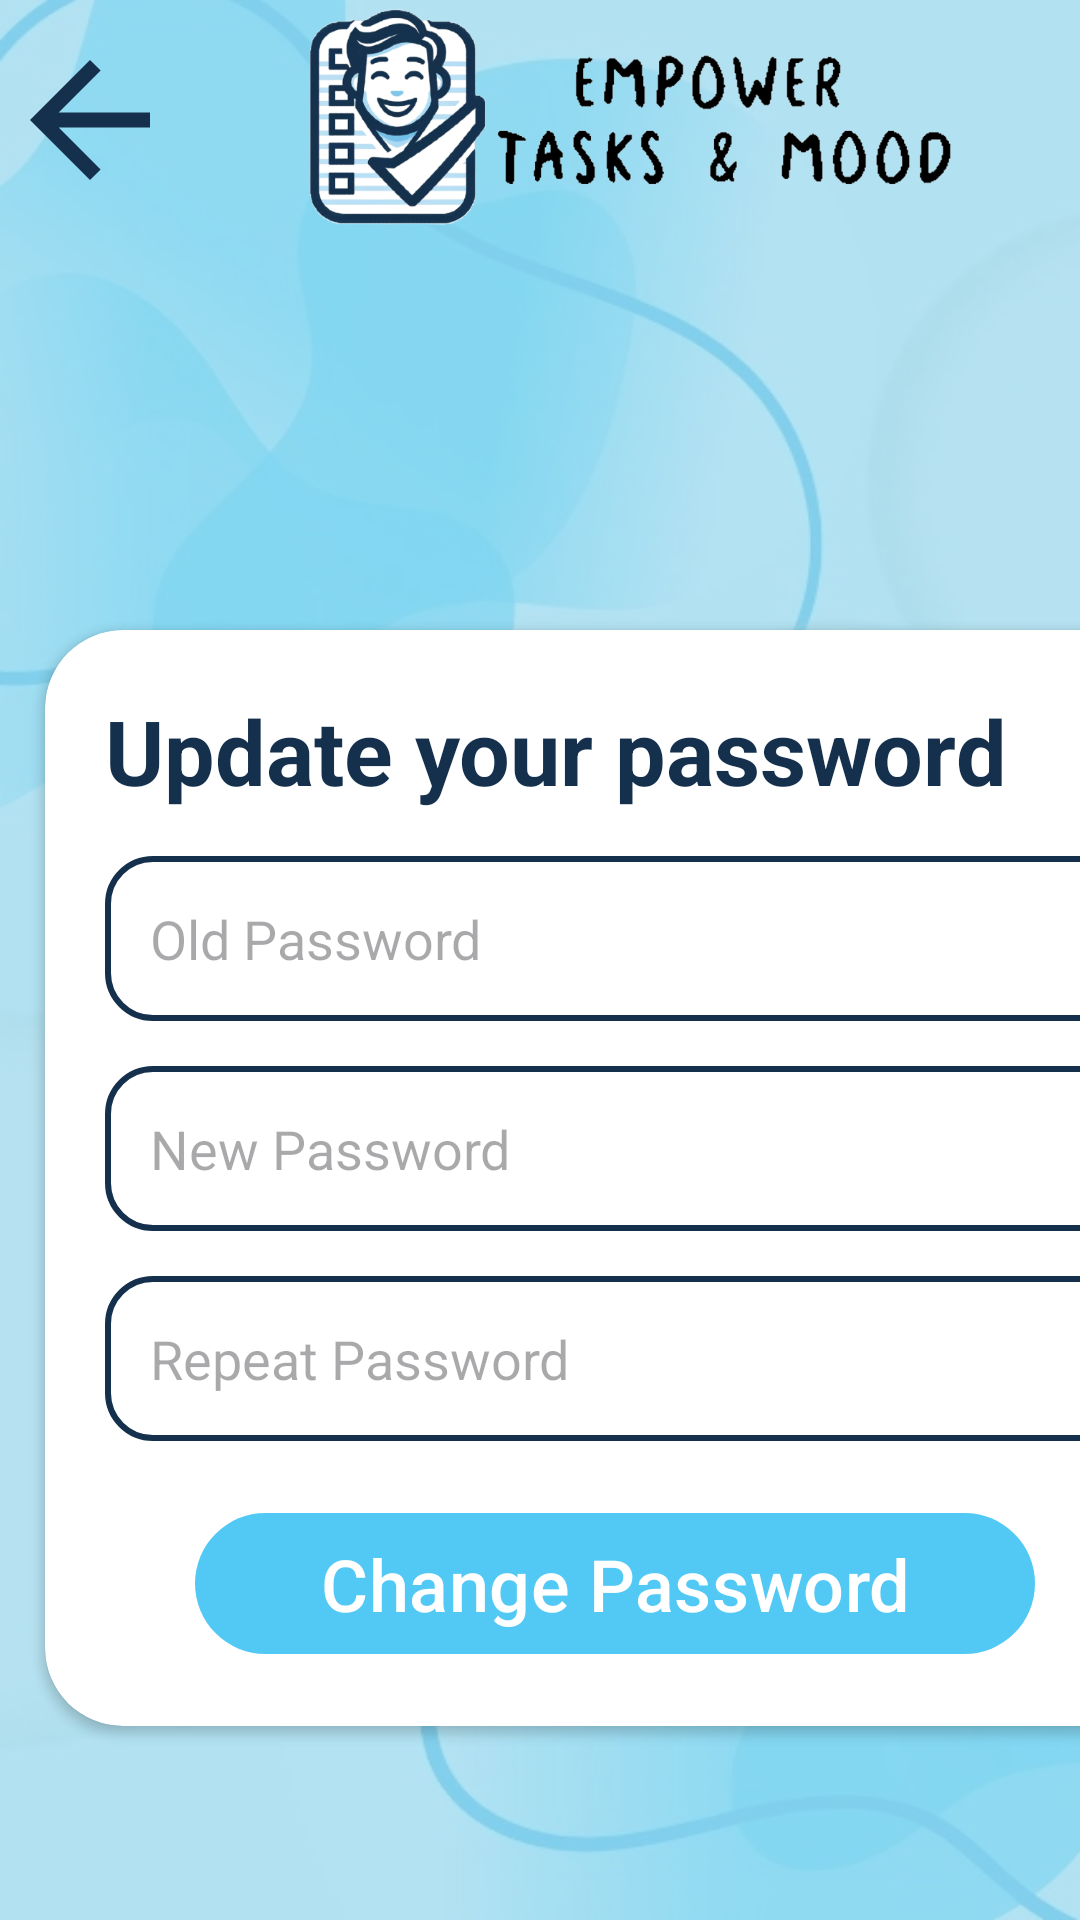

Where to tap for icons on this 1080*1920 app screen, as (x,y):
arrow back: (75,92)
